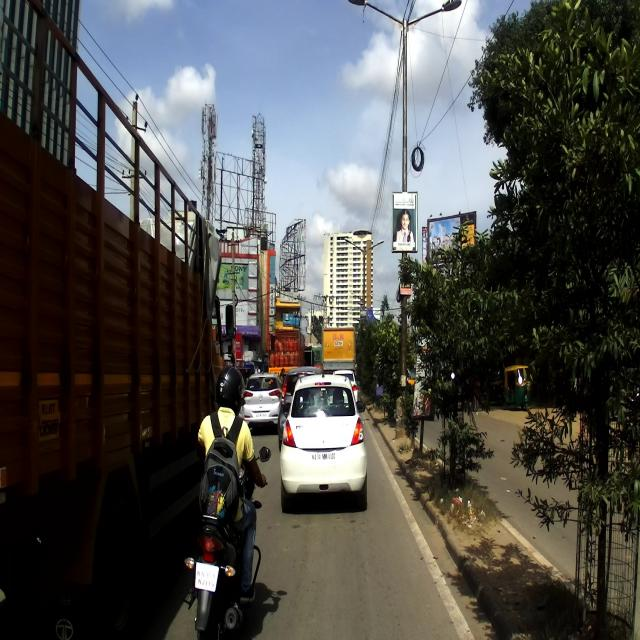car: (280, 365, 368, 512)
motorcycle: (182, 446, 265, 638)
truck: (2, 0, 240, 639), (320, 326, 356, 370)
